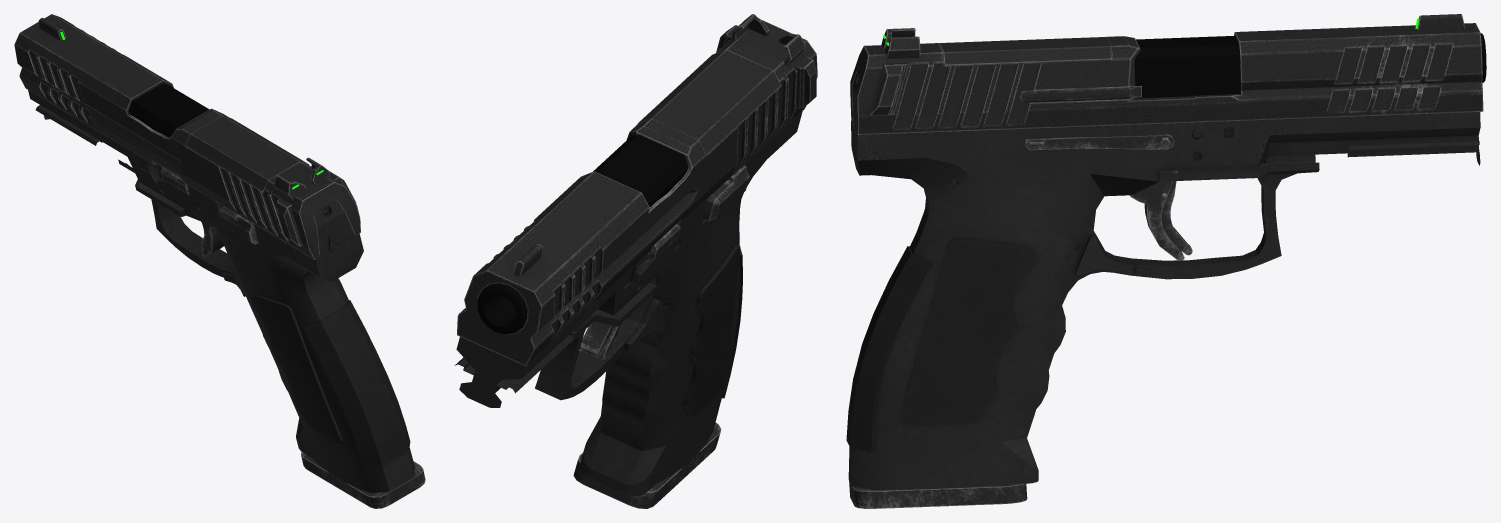
3 renders of one model, left to right at view 1: azimuth 30°, elevation 25°; view 2: azimuth 150°, elevation 25°; view 3: azimuth 270°, elevation 25°, orthographic. The views are drawn at different scales.
Parts seen in each view (by area): view 1: bolt, body, mag; view 2: bolt, body, mag; view 3: bolt, body, mag.
Part boxes in pixels (x1,y1,x2,y2): bolt: (14, 14, 363, 281); body: (28, 90, 415, 493); mag: (250, 295, 425, 508); bolt: (457, 14, 817, 365); body: (454, 111, 802, 492); mag: (573, 246, 742, 508); bolt: (850, 14, 1486, 181); body: (848, 135, 1480, 489); mag: (846, 239, 1038, 508).
Bounding box in the file's own units: 0.0714 × 0.1394 × 0.1871.
7 materials, 6 textured.
